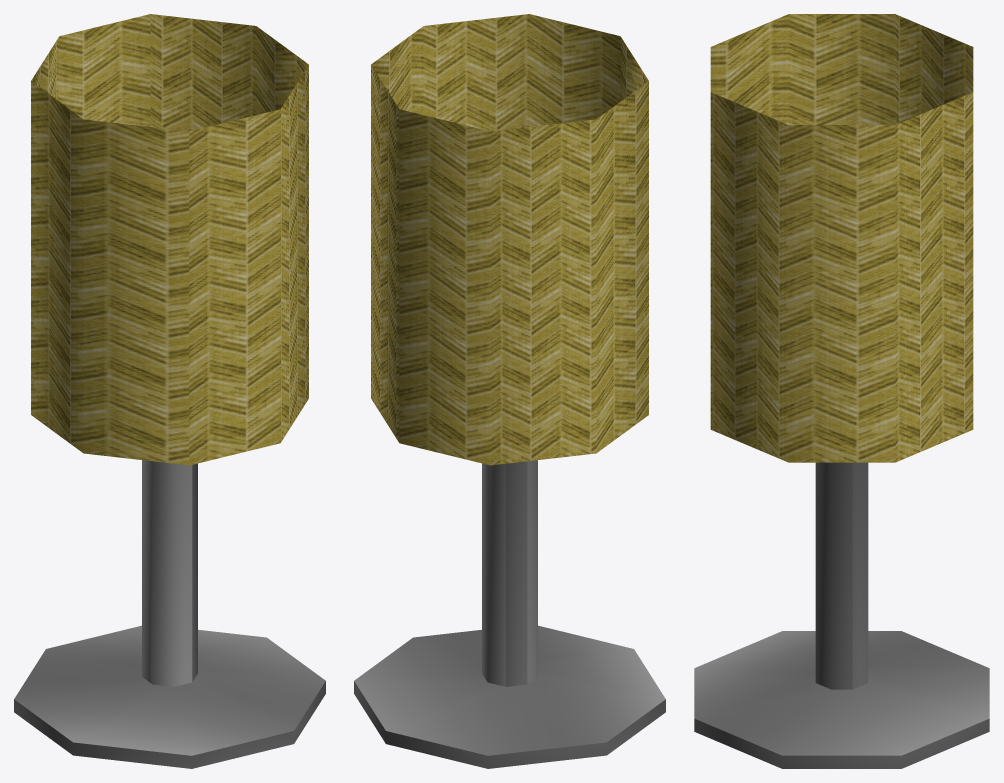
Rendered from lamp_desk.fbx.
The picture shows the model from 3 angles, left to right: view 1: azimuth 30°, elevation 25°; view 2: azimuth 150°, elevation 25°; view 3: azimuth 270°, elevation 25°; orthographic projection.
Parts seen in each view (by area): view 1: lamp.001; view 2: lamp.001; view 3: lamp.001.
Part boxes in pixels (x1,y1,x2,y2): lamp.001: [14, 14, 325, 768]; lamp.001: [354, 14, 665, 768]; lamp.001: [694, 14, 989, 768].
Size of the model in its own units: 56.83 by 135 by 56.83.
1 material, 1 textured.
